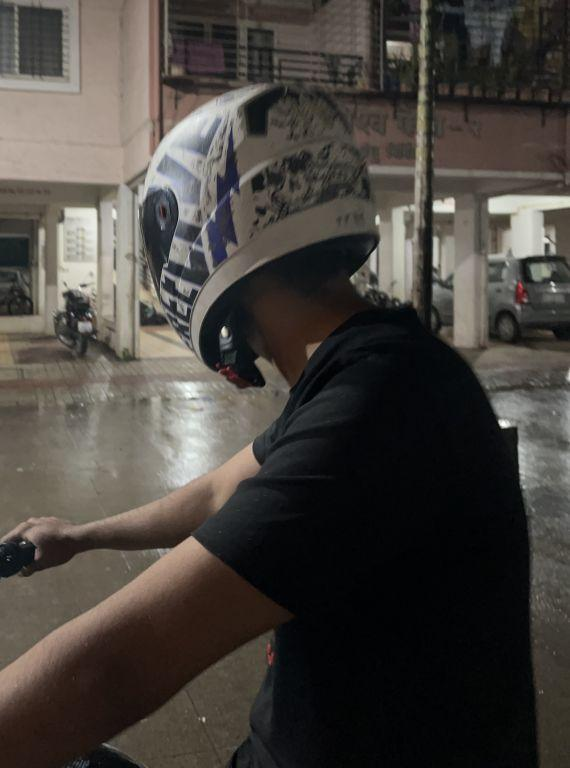helmet: (117, 67, 392, 391)
